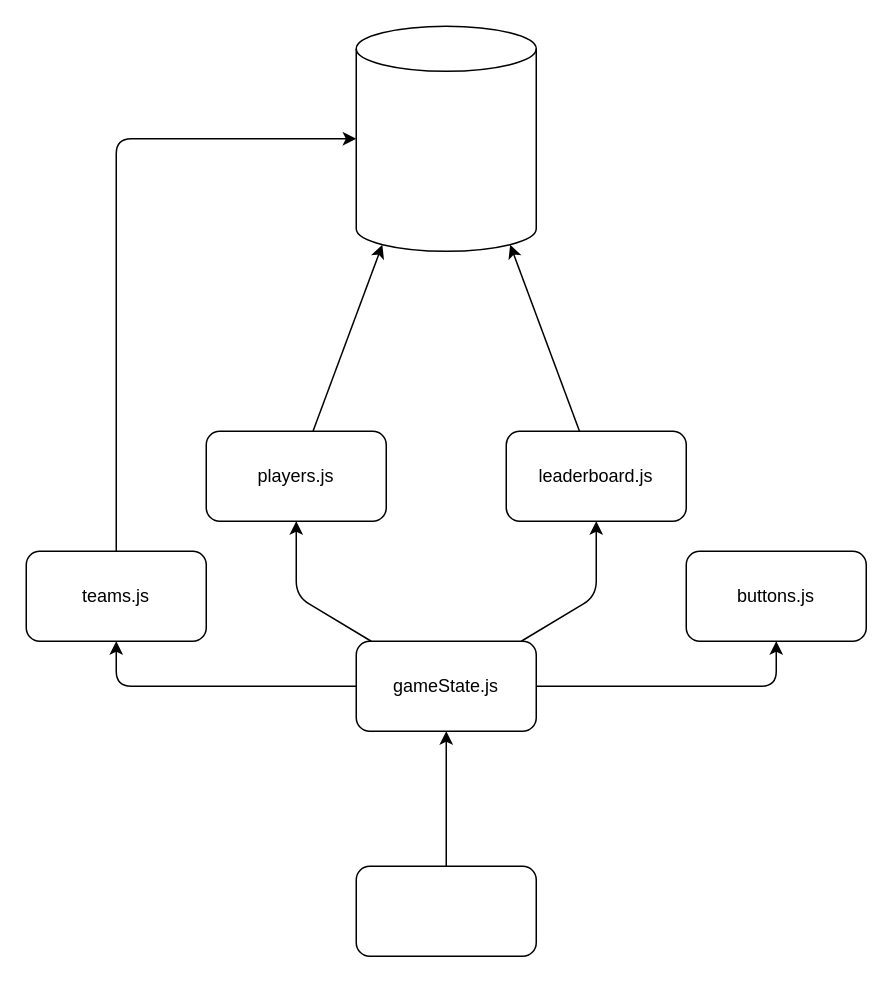
The diagram is 893 pixels wide and 983 high, and some of its shapes have lost their labels. The centre of each missing label's shape, as x and y in pixels:
"database.json" goes at [445,138].
"main.js" goes at [445,910].
